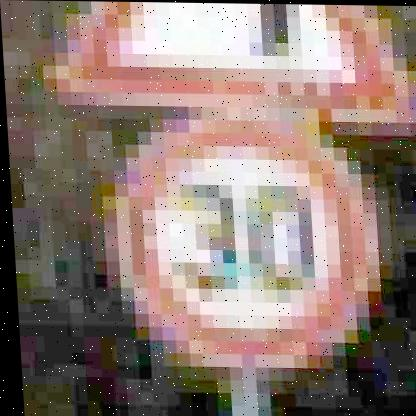Speed Limit -30-: (103, 113, 385, 369)
